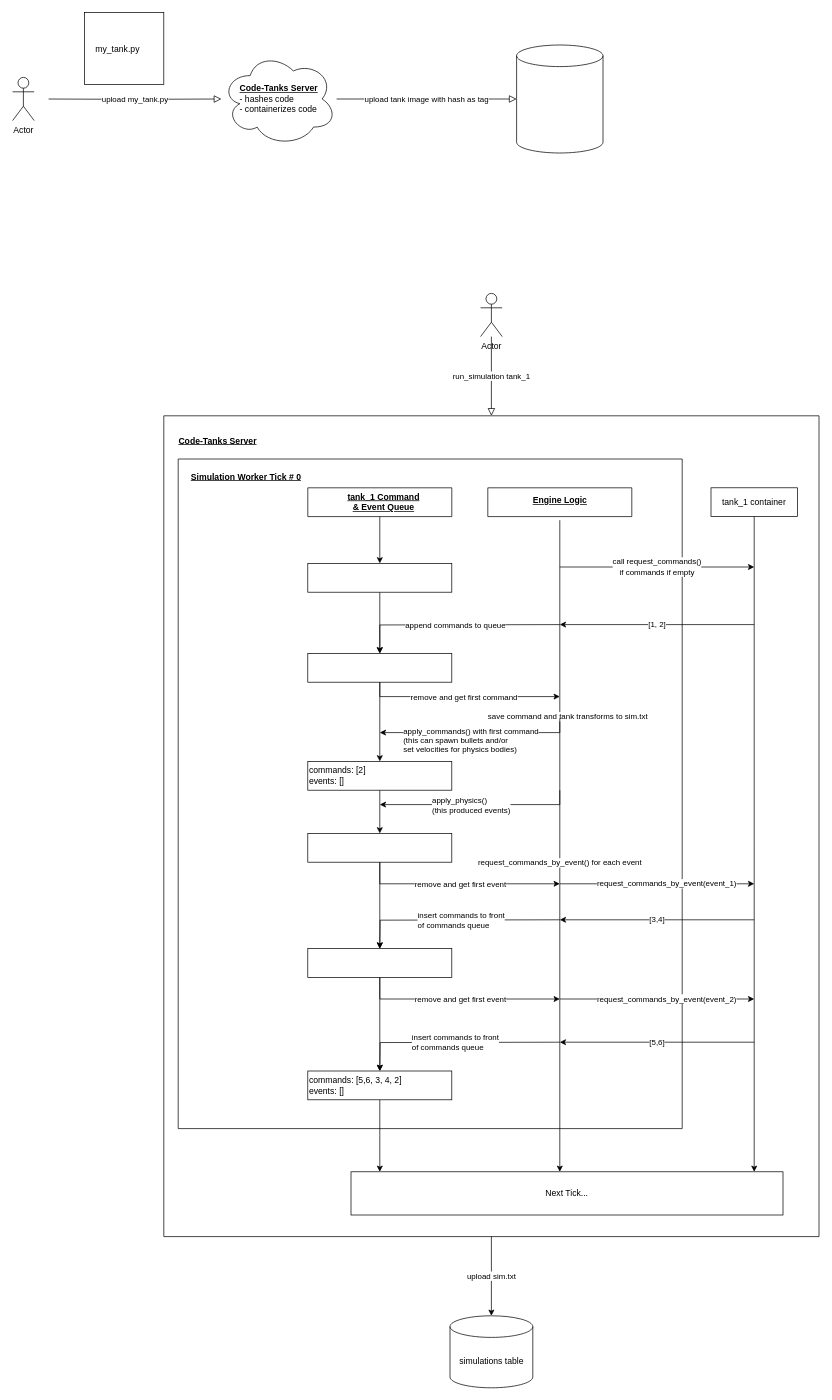
This 832x1400 diagram has some shape labels left out. The centre of each missing label's shape, as x and y in pixels:
"Code-Tanks Image Registry" goes at point 559,98.
"commands: [1, 2] events: []" goes at point 379,667.
"commands: [2] events: [event_1, event_2]" goes at point 379,847.
"commands: [3, 4, 2] events: [event_2]" goes at point 379,962.
"commands: [] events: []" goes at point 379,577.
